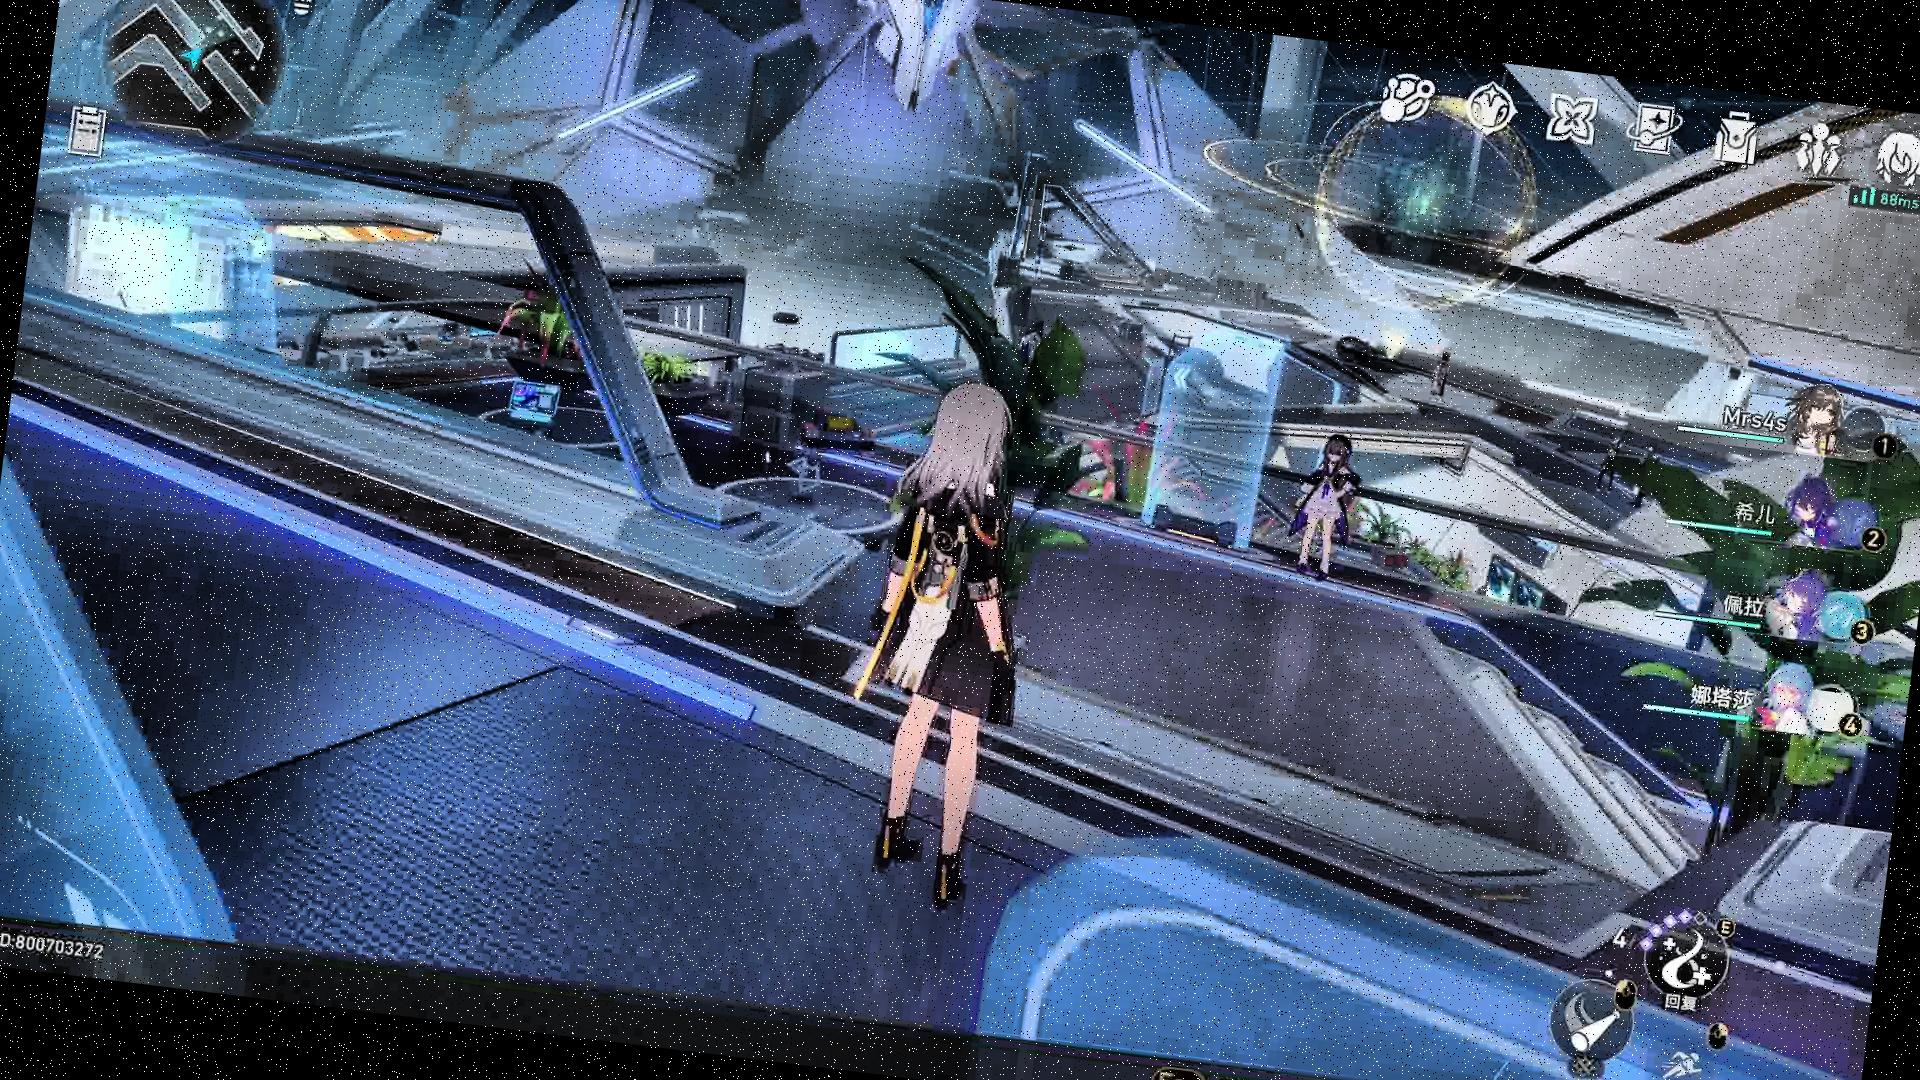Self: (836, 371, 1043, 914)
TeamMate: (1274, 422, 1364, 585), (1590, 425, 1633, 493), (1428, 352, 1457, 401)
